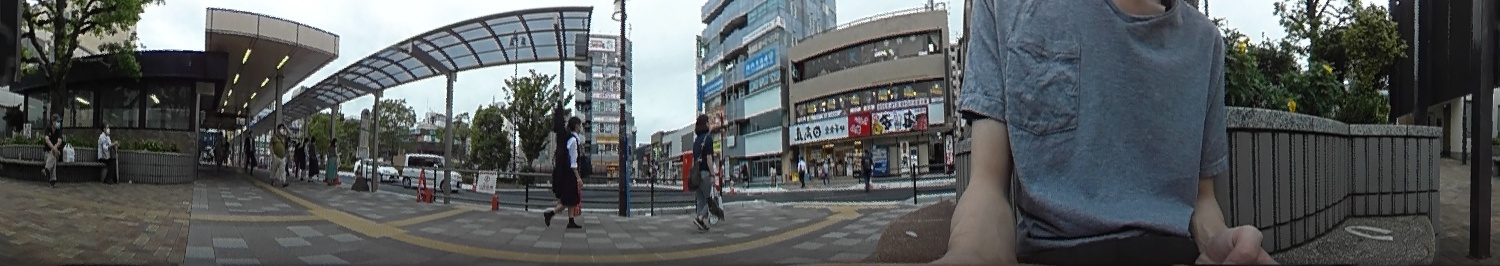difficult_person: (325, 137, 342, 186), (859, 147, 875, 193), (242, 128, 258, 173), (307, 136, 319, 182), (299, 135, 311, 178), (210, 129, 224, 164), (796, 154, 806, 186), (821, 156, 830, 181), (742, 165, 751, 184)
person: (546, 113, 590, 231), (687, 111, 724, 230), (43, 112, 66, 187), (94, 121, 118, 181), (270, 121, 289, 185)
